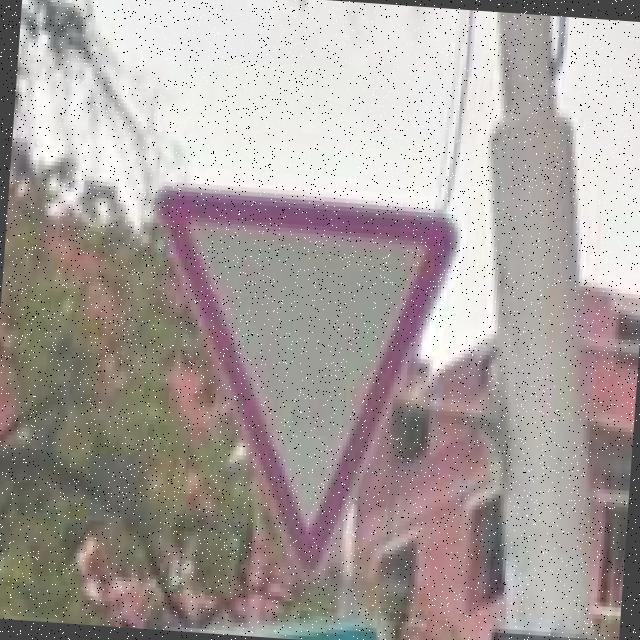Ustap pierwszenstwa: (128, 185, 459, 590)
